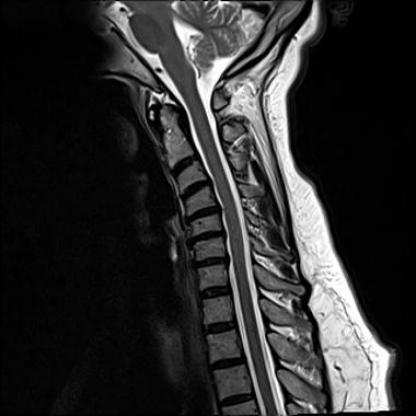Disc Protrusionrotation: (184, 206, 221, 223), (178, 181, 212, 199), (187, 230, 223, 246), (194, 255, 229, 270)
